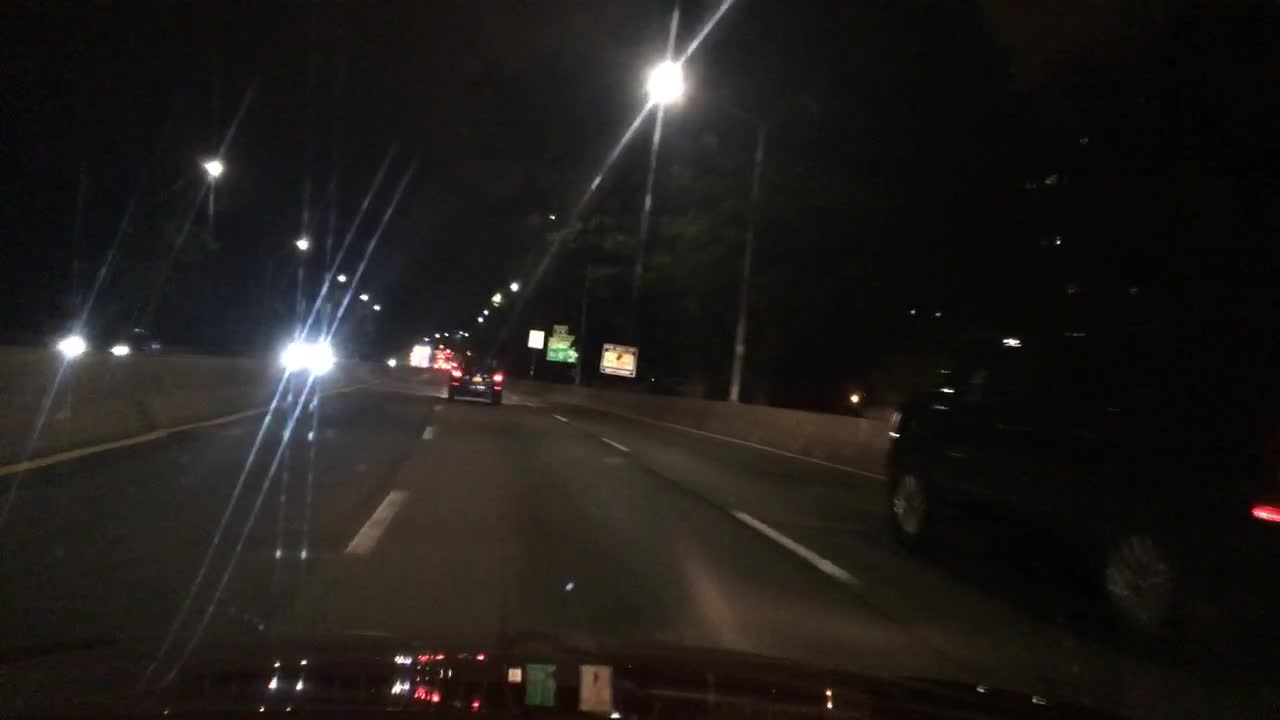car: (876, 313, 1277, 654), (443, 350, 508, 405), (56, 324, 165, 355), (281, 338, 339, 361), (431, 358, 453, 370)
traffic sign: (597, 341, 637, 376), (544, 335, 579, 362), (527, 329, 544, 349), (553, 322, 570, 335)
